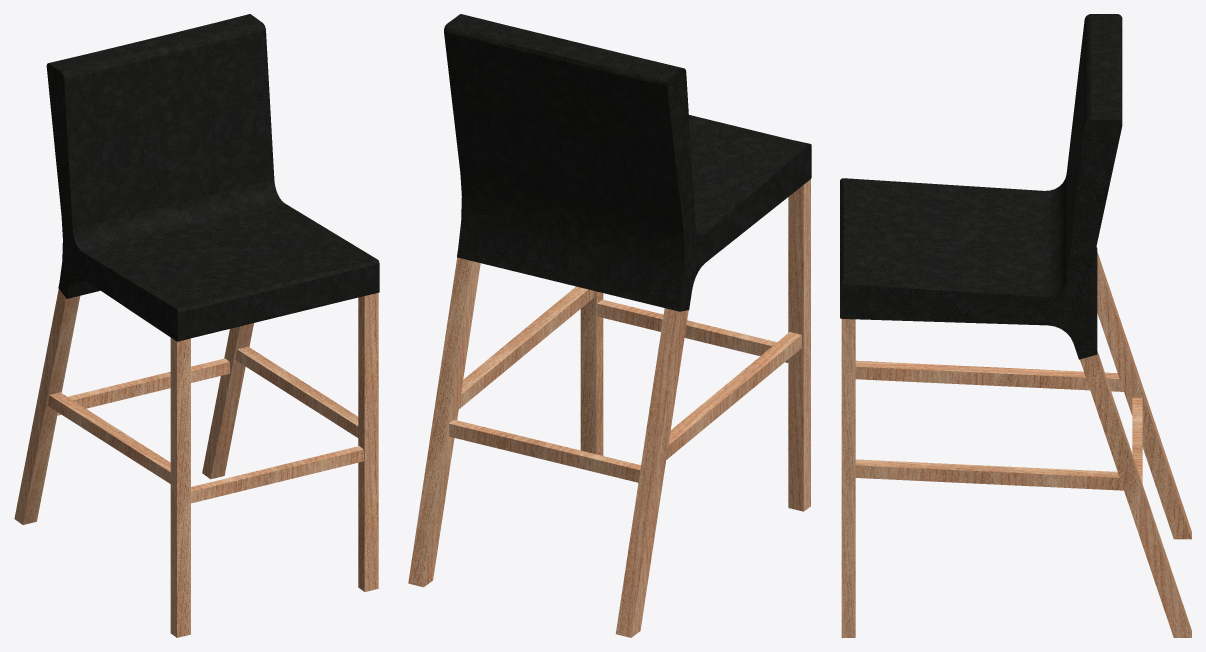
File: chair-wood.glb
3 renders of one model, left to right at view 1: azimuth 30°, elevation 25°; view 2: azimuth 150°, elevation 25°; view 3: azimuth 270°, elevation 25°, orthographic. The views are drawn at different scales.
Visible parts, largest first — view 1: stool_bar_b; view 2: stool_bar_b; view 3: stool_bar_b.
Boxes of the visible parts, x1=… form: stool_bar_b: x1=14, y1=14, x2=379, y2=637; stool_bar_b: x1=408, y1=14, x2=811, y2=637; stool_bar_b: x1=840, y1=14, x2=1191, y2=637.
Size of the model in its own units: 0.4572 by 1.04 by 0.6414.
Materials: 2 (2 with a texture image).
